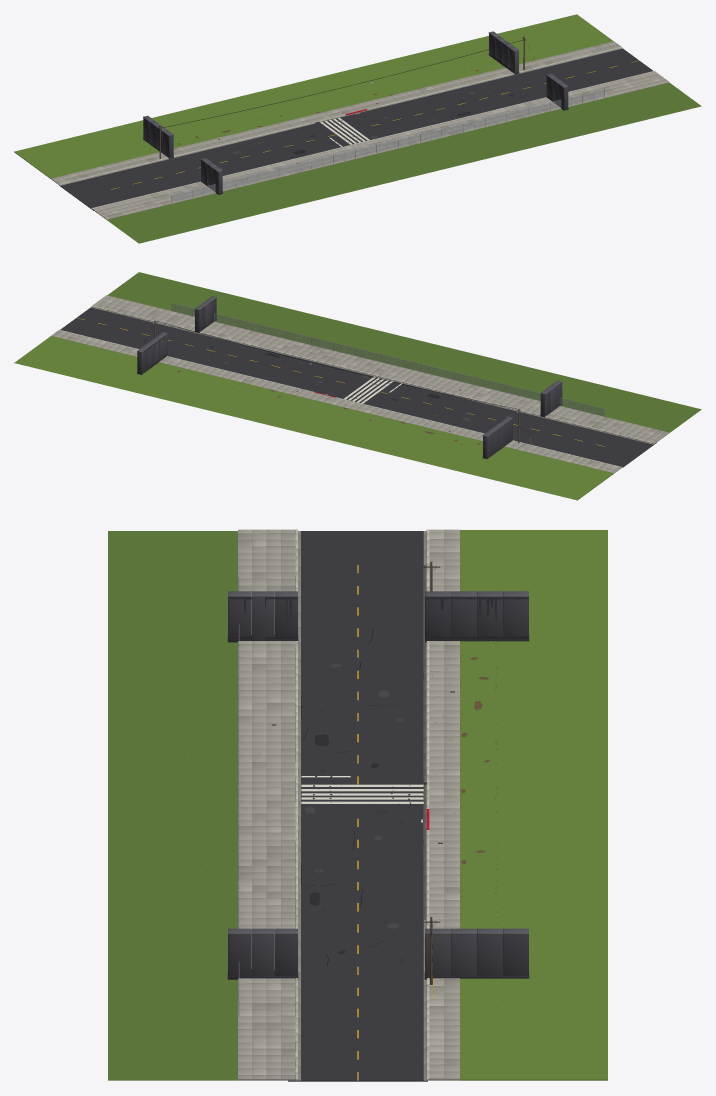
Rendered from street.glb.
3 renders of one model, top to bottom at view 1: azimuth 30°, elevation 25°; view 2: azimuth 150°, elevation 25°; view 3: azimuth 270°, elevation 25°, orthographic. The views are drawn at different scales.
Parts seen in each view (by area): view 1: Grass, Verge, Asphalt, Sidewalk_South, Sidewalk_North, FenceMesh, Curb_North, EndWall_East, EndWall_West, Fence, RoadPaint, Curb_South (+1 smaller); view 2: Grass, Verge, Asphalt, Sidewalk_South, Sidewalk_North, FenceMesh, Curb_South, EndWall_West, EndWall_East, Fence, RoadPaint, Curb_North (+1 smaller); view 3: Grass, Verge, Asphalt, Sidewalk_South, Sidewalk_North, EndWall_East, EndWall_West, Curb_North, Curb_South, RoadPaint, PowerLine.
Boxes of the visible parts, x1,y1,x2,y2 form: Grass: (14, 14, 613, 178); Verge: (107, 82, 701, 243); Asphalt: (59, 48, 652, 210); Sidewalk_South: (92, 71, 669, 219); Sidewalk_North: (51, 41, 621, 184); FenceMesh: (171, 89, 603, 202); Curb_North: (58, 47, 622, 185); EndWall_East: (488, 31, 568, 110); EndWall_West: (143, 115, 222, 194); Fence: (171, 89, 604, 203); RoadPaint: (111, 60, 638, 189); Curb_South: (91, 71, 654, 208); Grass: (14, 336, 613, 500); Verge: (107, 272, 701, 432); Asphalt: (60, 307, 656, 467); Sidewalk_South: (92, 295, 669, 443); Sidewalk_North: (51, 330, 621, 473); FenceMesh: (171, 303, 603, 416); Curb_South: (91, 305, 654, 444); EndWall_West: (482, 380, 562, 459); EndWall_East: (137, 296, 216, 374); Fence: (171, 303, 604, 416); RoadPaint: (77, 318, 604, 446); Curb_North: (59, 329, 622, 467); Grass: (460, 530, 607, 1080); Verge: (108, 531, 237, 1080); Asphalt: (288, 531, 427, 1081); Sidewalk_South: (238, 529, 295, 1080); Sidewalk_North: (428, 529, 459, 1080); EndWall_East: (227, 928, 529, 979); EndWall_West: (227, 591, 529, 642); Curb_North: (423, 529, 429, 1080); Curb_South: (295, 529, 300, 1080); RoadPaint: (301, 565, 423, 1080); PowerLine: (422, 561, 440, 998).
Bounding box in the file's own units: 130 × 7.77 × 50.
